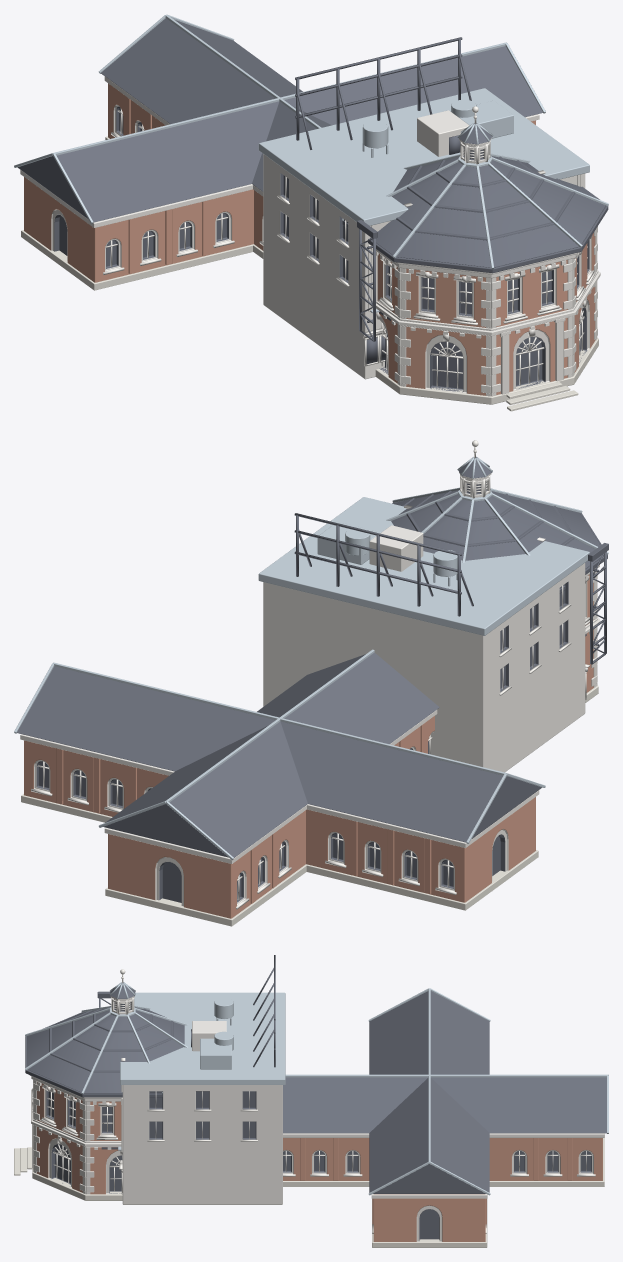
Rendered from bundle-core.glb.
3 renders of one model, top to bottom at view 1: azimuth 30°, elevation 25°; view 2: azimuth 150°, elevation 25°; view 3: azimuth 270°, elevation 25°, orthographic. The views are drawn at different scales.
Visible parts, largest first — view 1: main (×2), block; view 2: main (×2), block; view 3: main (×2), block.
Boxes of the visible parts, box(x1,y1,x2,y2) form: main (×2): box(14, 14, 608, 411); block: box(362, 99, 545, 206); main (×2): box(14, 440, 608, 926); block: box(345, 505, 545, 586); main (×2): box(14, 955, 608, 1247); block: box(121, 998, 233, 1061).
Bounding box in the file's own units: 30.9 × 16 × 44.6.
